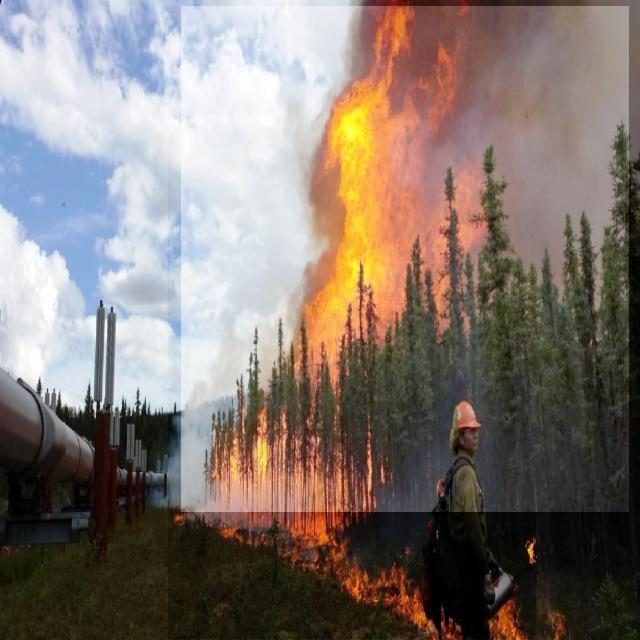Fire: (168, 26, 536, 639)
Smoke: (181, 6, 629, 512)
